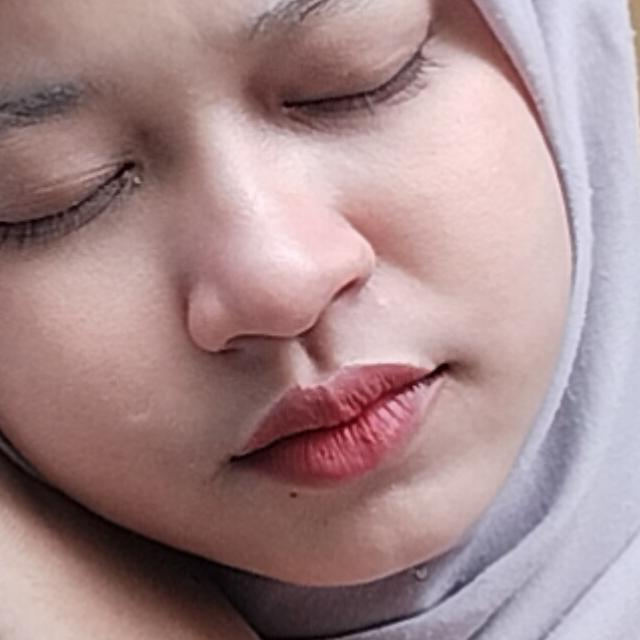tidur: (0, 38, 556, 640)
